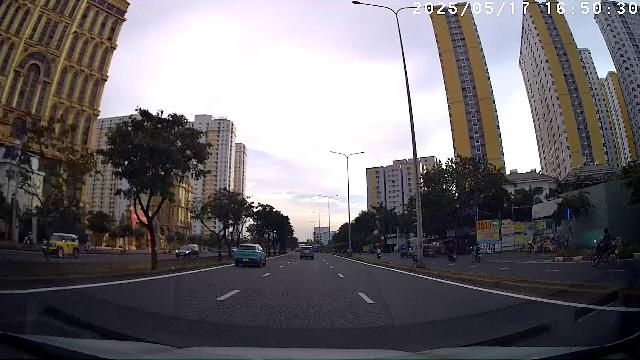301a-cac-xe-chi-duoc-di-thang: (563, 207, 573, 221)
